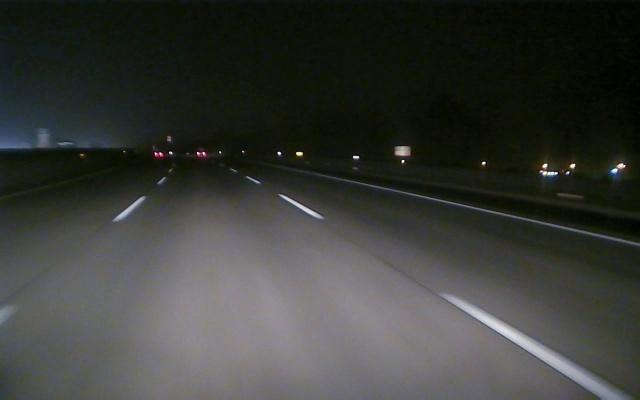lane: (279, 194, 637, 400), (350, 179, 640, 246), (110, 195, 148, 225)
